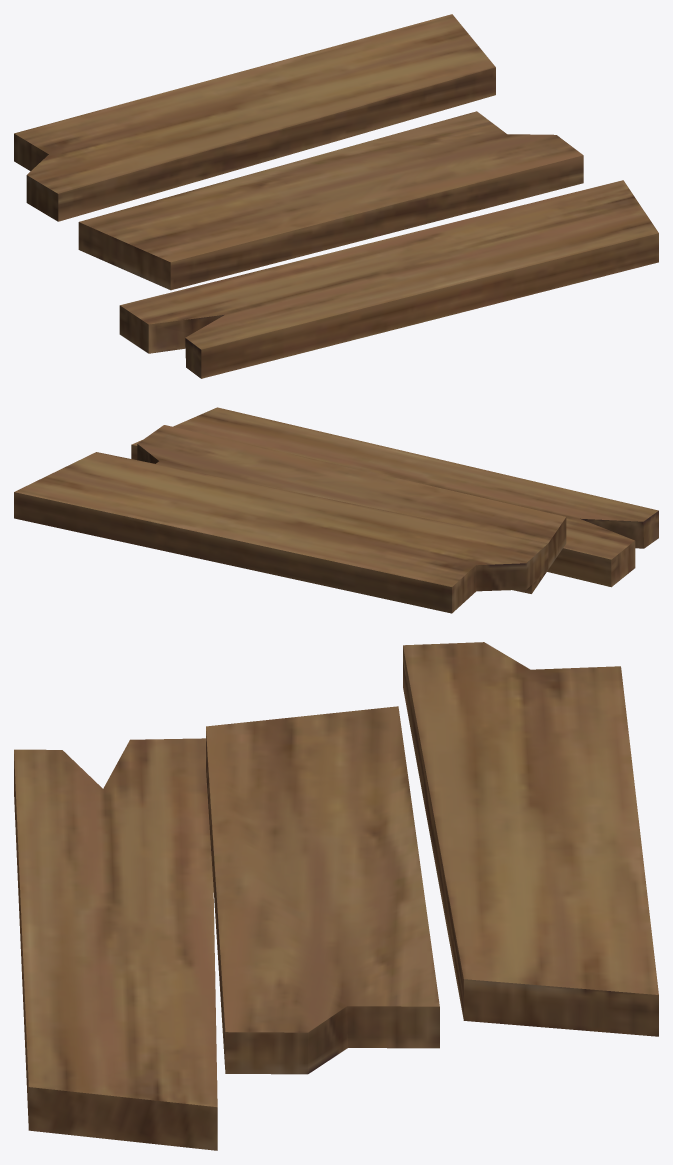
The model's file is Map_11_wood04.FBX.
3 views of the same model, one above another, from view 1: azimuth 30°, elevation 25°; view 2: azimuth 150°, elevation 25°; view 3: azimuth 270°, elevation 25° (orthographic). The views are drawn at different scales.
Visible parts, largest first — view 1: Map_11_wood04; view 2: Map_11_wood04; view 3: Map_11_wood04.
Boxes of the visible parts, x1=… form: Map_11_wood04: x1=14, y1=14, x2=658, y2=378; Map_11_wood04: x1=14, y1=407, x2=658, y2=613; Map_11_wood04: x1=14, y1=642, x2=658, y2=1150.
Bounding box in the file's own units: 331 × 244 × 57.78.
